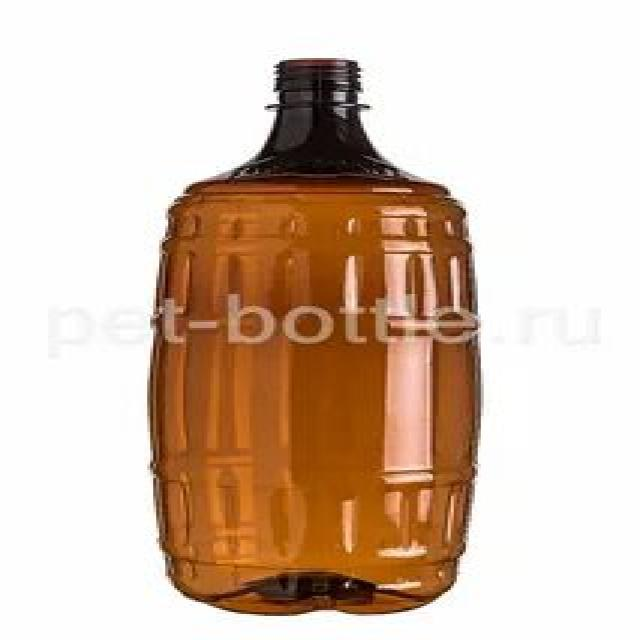brown: (153, 60, 481, 618)
